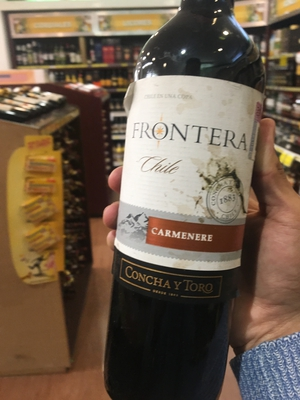frontera carmenere: (122, 3, 270, 391)
